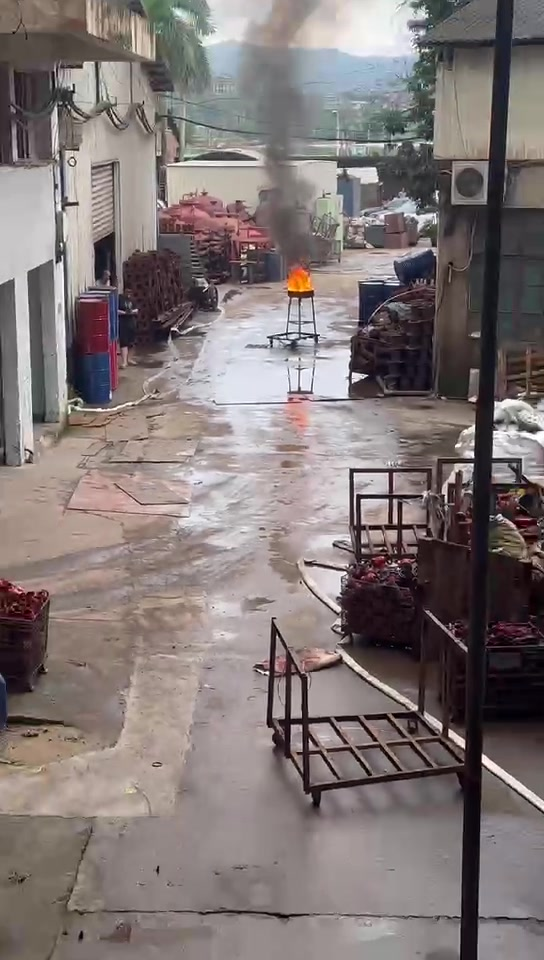fire: (286, 265, 313, 291)
